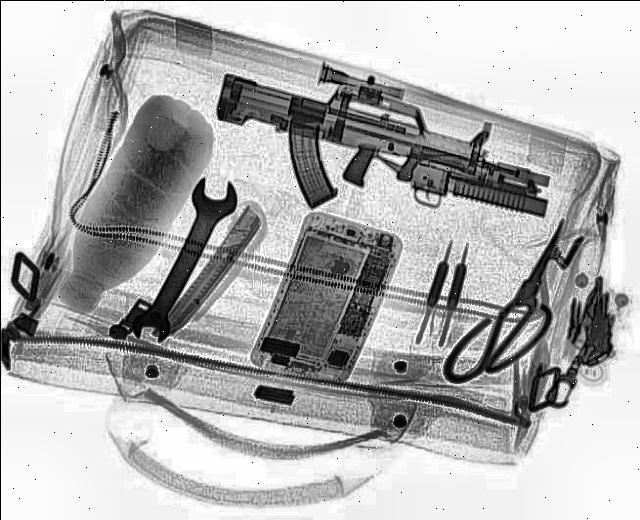Gun: (214, 66, 552, 218)
Knife: (439, 220, 565, 384)
Wrench: (132, 175, 238, 343)
